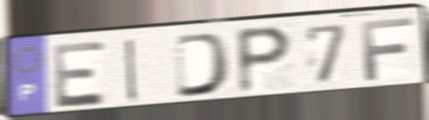7: (303, 22, 349, 86)
D: (173, 30, 235, 100)
E: (50, 38, 109, 111)
F: (359, 15, 416, 83)
I: (124, 36, 140, 105)
P: (234, 23, 295, 96)
